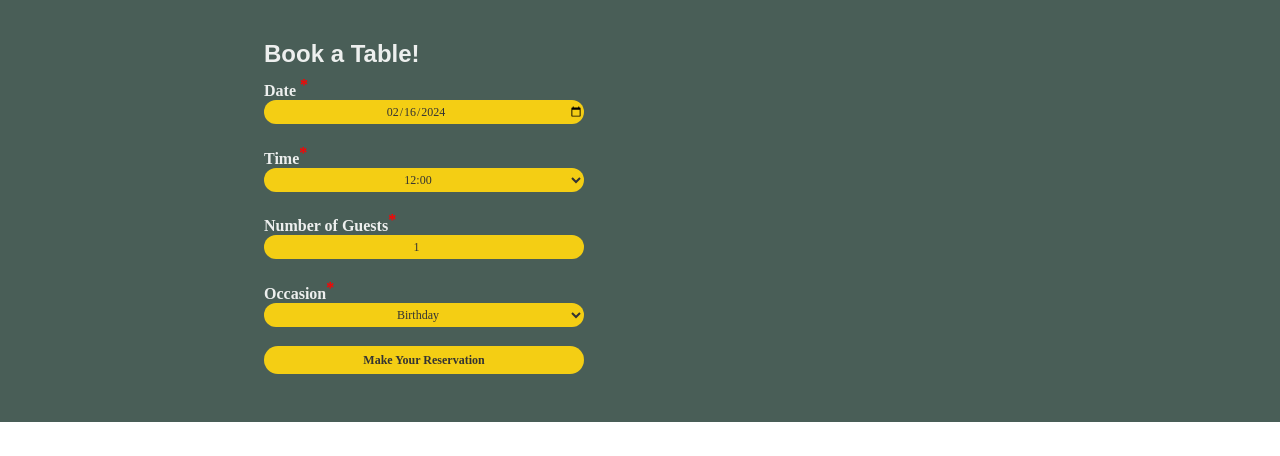
Booking component tests › Cannot submit form (submit button disabled) with a date in the past
Type "1990/01/01" into the date field labelled "Date *" at (424, 112), box [264,100,584,124]
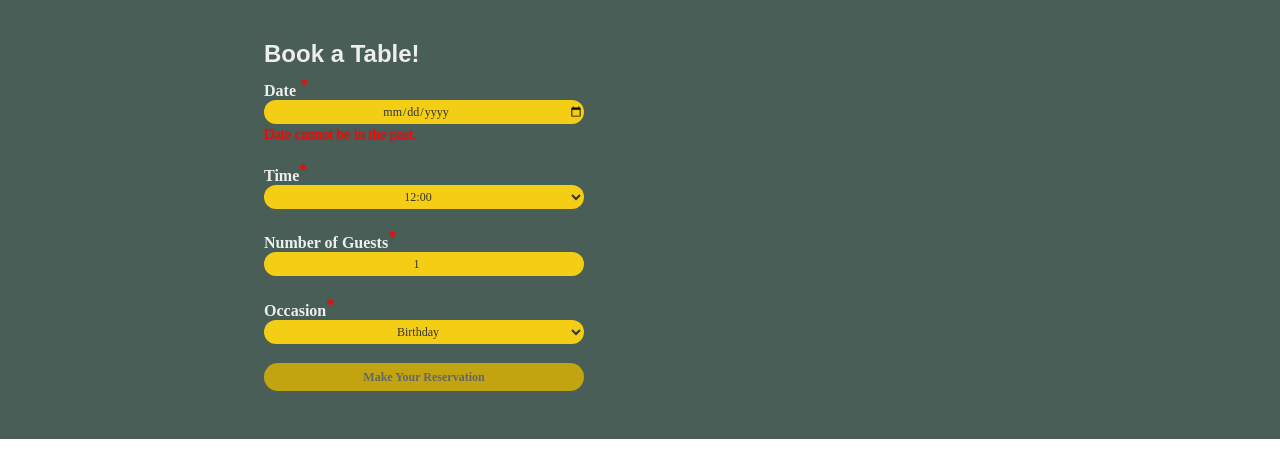
Check: the button is disabled, box [264,363,584,391]
